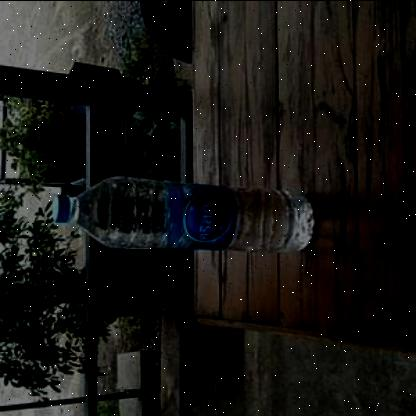Plastic Bottle: (53, 175, 315, 250)
